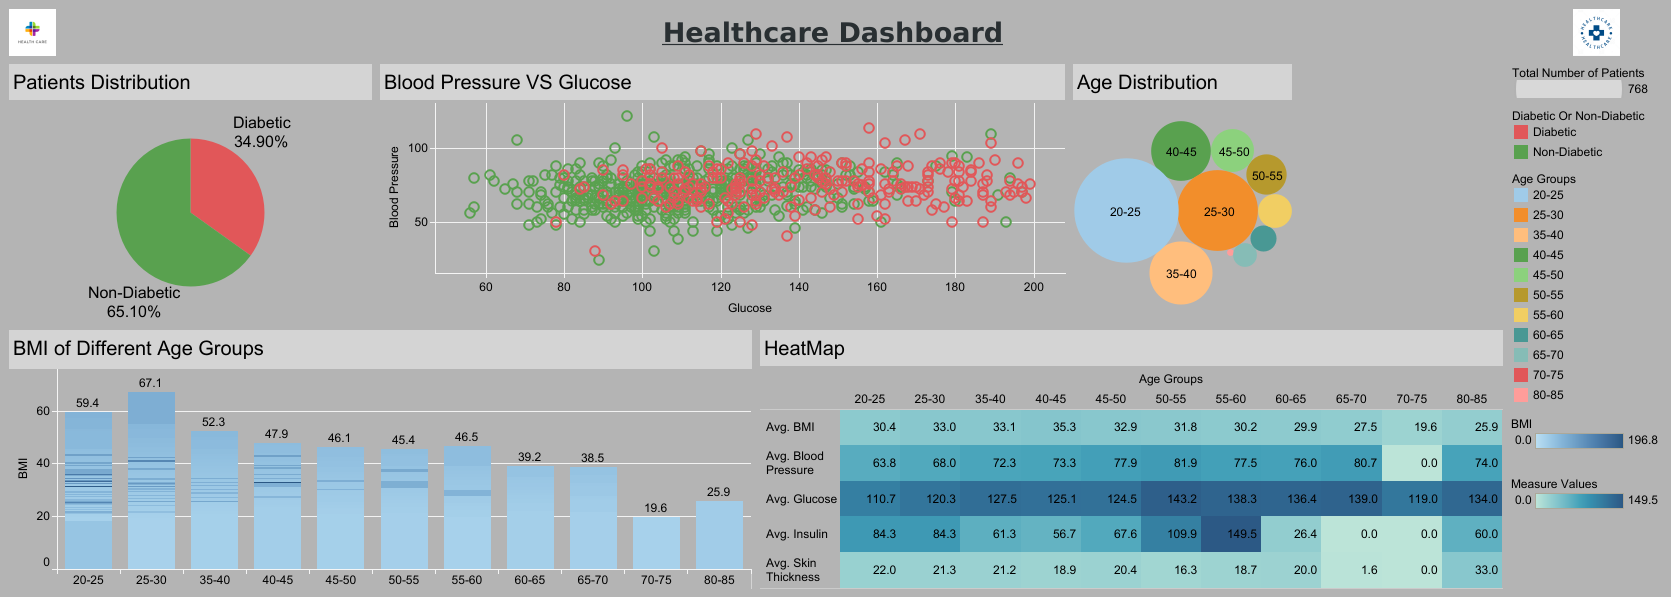

This screenshot's page, from the dashboard's own definition file:
{"tool":"tableau","page":{"name":"Dashboard 2","canvas":[1000,1000],"units":"permille","ordinal":0},"visuals":[{"type":"image","param":"Image/Logo 2.jpg","box":[4.3,8.4,54.9,91.9]},{"type":"text","box":[59.2,8.4,877.8,91.9]},{"type":"image","param":"Image/HealthCare logo.png","box":[937.1,8.4,58.6,91.9]},{"type":"worksheet","title":"Pie Chart","mark":"Pie","box":[4.3,100.3,210.6,445.4]},{"type":"worksheet","title":"Scatter","mark":"Shape","rows":["BloodPressure"],"cols":["Glucose"],"box":[214.9,100.3,393.8,445.4]},{"type":"worksheet","title":"Bubble","mark":"Circle","box":[608.6,100.3,248.5,445.4]},{"type":"legend","title":"Pie Chart","param":"[federated.12uzopk1uat4k811hbdls1orhwro].[usr:Calculation_456833944775086080:qk]","box":[857.1,100.3,138.5,72.6]},{"type":"legend","title":"Pie Chart","param":"[federated.12uzopk1uat4k811hbdls1orhwro].[none:Calculation_456833944776060929:nk","box":[857.1,173,138.5,106.4]},{"type":"legend","title":"Bubble","param":"[federated.12uzopk1uat4k811hbdls1orhwro].[none:Calculation_456833944786862082:nk","box":[857.1,279.4,138.5,410.5]},{"type":"worksheet","title":"Frequency Plot","mark":"Bar","rows":["BMI"],"cols":["Calculation_456833944786862082"],"box":[4.3,545.7,426.2,445.9]},{"type":"worksheet","title":"HeatMap","mark":"Square","cols":["Calculation_456833944786862082"],"box":[430.5,545.7,426.6,445.9]},{"type":"legend","title":"Frequency Plot","param":"[federated.12uzopk1uat4k811hbdls1orhwro].[sum:BMI:qk]","box":[857.1,689.9,138.5,99.7]},{"type":"legend","title":"HeatMap","param":"[federated.12uzopk1uat4k811hbdls1orhwro].[Multiple Values]","box":[857.1,789.5,138.5,99.7]}]}

Visuals, with their boxes on the dashboard's canvas, which has no fixed pixel size, in thousandths of its width and height (x1, y1, x2, y2). These are canvas units, not pixel positions in the 1671x597 screenshot, which may show the page scaled, cropped or inside an application window:
image: 4,8,59,100
text: 59,8,937,100
image: 937,8,996,100
"Pie Chart" worksheet (Pie marks): 4,100,215,546
"Scatter" worksheet (Shape marks): 215,100,609,546
"Bubble" worksheet (Circle marks): 609,100,857,546
"Pie Chart" legend: 857,100,996,173
"Pie Chart" legend: 857,173,996,279
"Bubble" legend: 857,279,996,690
"Frequency Plot" worksheet (Bar marks): 4,546,430,992
"HeatMap" worksheet (Square marks): 430,546,857,992
"Frequency Plot" legend: 857,690,996,790
"HeatMap" legend: 857,790,996,889
